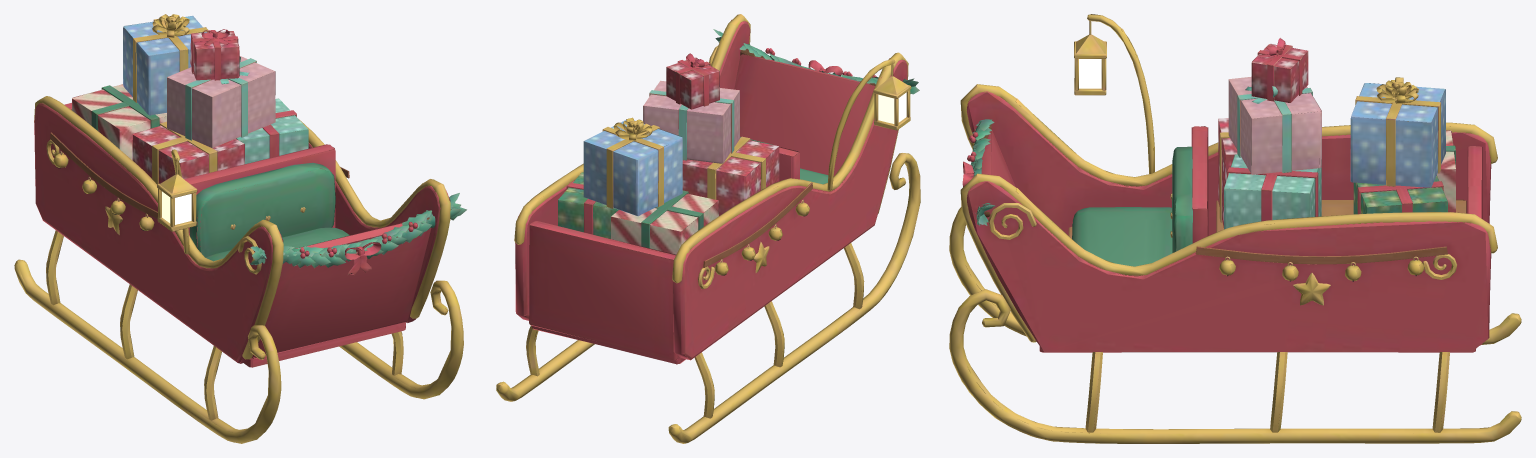
The model's file is santa-sleigh.glb.
3 views of the same model, side by side, from view 1: azimuth 30°, elevation 25°; view 2: azimuth 150°, elevation 25°; view 3: azimuth 270°, elevation 25° (orthographic). The views are drawn at different scales.
Parts seen in each view (by area): view 1: sleigh_body, sleigh_lantern_glow; view 2: sleigh_body, sleigh_lantern_glow; view 3: sleigh_body, sleigh_lantern_glow.
Part boxes in pixels (box(x1,y1,x2,y2)): sleigh_body: box(14, 14, 466, 443); sleigh_lantern_glow: box(162, 191, 191, 224); sleigh_body: box(496, 14, 920, 443); sleigh_lantern_glow: box(878, 92, 906, 123); sleigh_body: box(949, 14, 1521, 443); sleigh_lantern_glow: box(1079, 59, 1101, 88).
Size of the model in its own units: 1.3 by 1.56 by 2.32.
2 materials, 1 textured.
